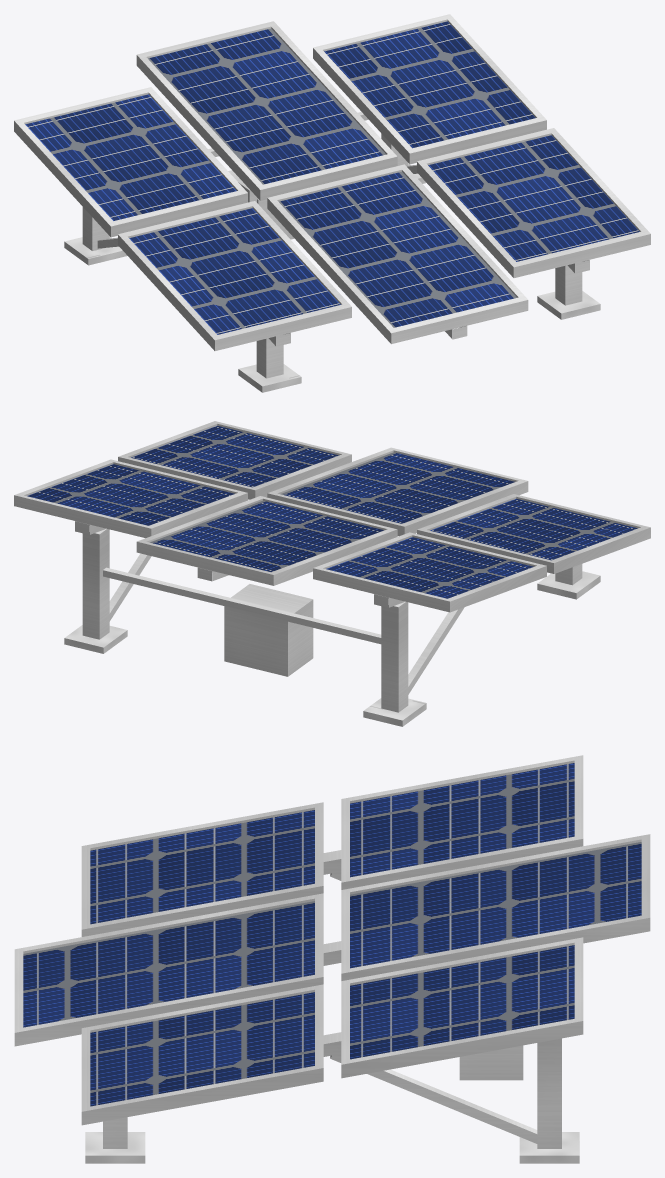
Rendered from solar_generator.obj.
The picture shows the model from 3 angles, top to bottom: view 1: azimuth 30°, elevation 25°; view 2: azimuth 150°, elevation 25°; view 3: azimuth 270°, elevation 25°; orthographic projection. The views are drawn at different scales.
Parts seen in each view (by area): view 1: solar_generator; view 2: solar_generator; view 3: solar_generator.
Part boxes in pixels (x1,y1,x2,y2): solar_generator: (14,14,650,392); solar_generator: (14,421,650,726); solar_generator: (14,755,650,1163).
Bounding box in the file's own units: 3.56 × 1.15 × 3.61.
